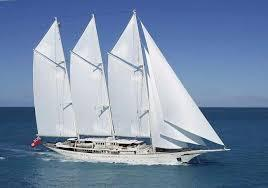Ship: (15, 8, 235, 171)
